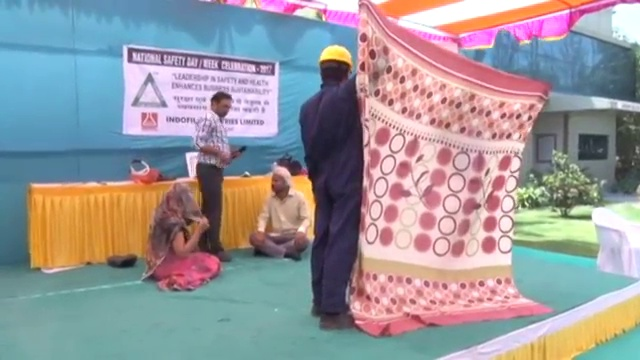helmet: (319, 43, 354, 67)
helmet_off: (164, 182, 194, 213), (209, 90, 232, 119), (268, 166, 289, 195)
helmet_on: (317, 42, 355, 85)
person: (300, 42, 362, 330), (151, 183, 222, 289), (195, 90, 239, 261), (250, 166, 310, 262)
